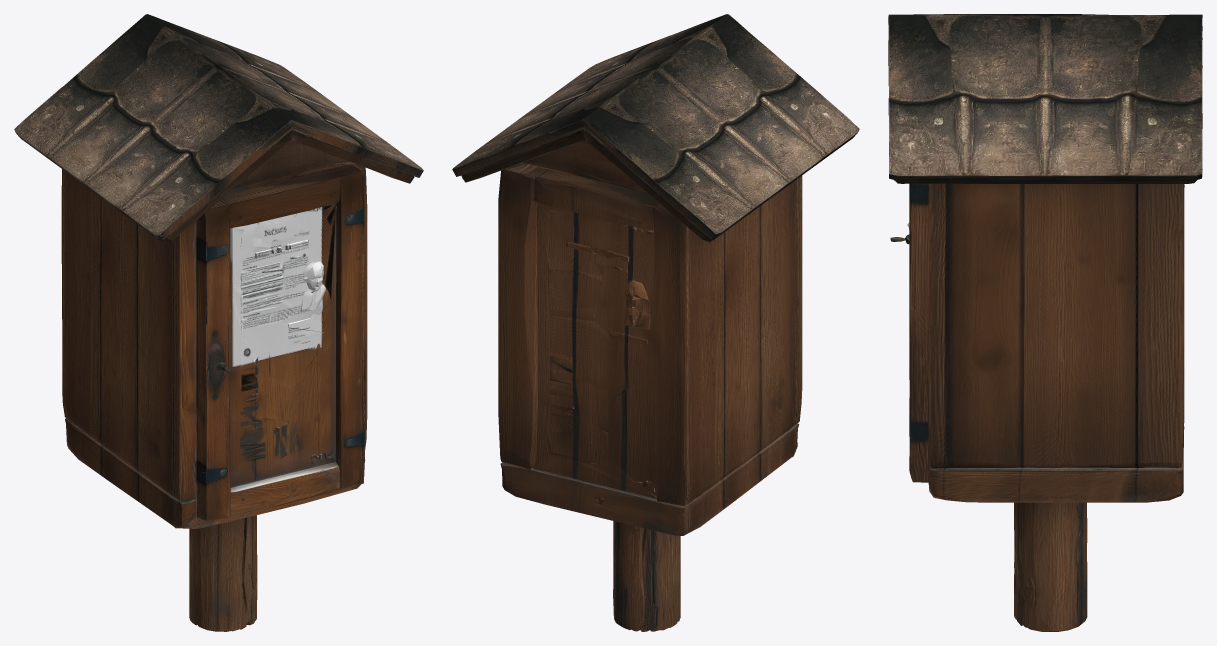
3 renders of one model, left to right at view 1: azimuth 30°, elevation 25°; view 2: azimuth 150°, elevation 25°; view 3: azimuth 270°, elevation 25°, orthographic. The views are drawn at different scales.
Bounding box in the file's own units: 0.9651 × 1.9 × 0.9018.
1 material, 1 textured.
